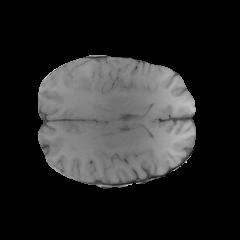glioma: (73, 73, 103, 96)
